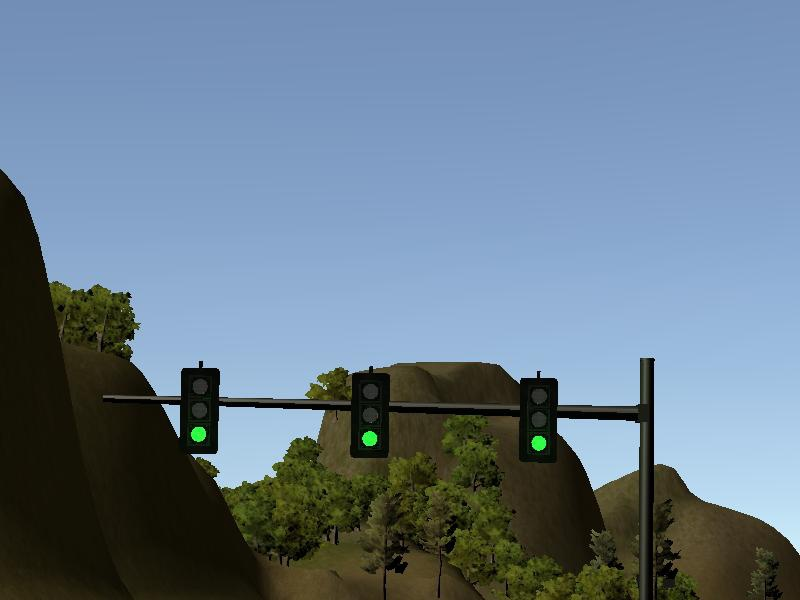Green: (180, 367, 219, 453), (352, 372, 388, 459), (520, 377, 556, 464)
